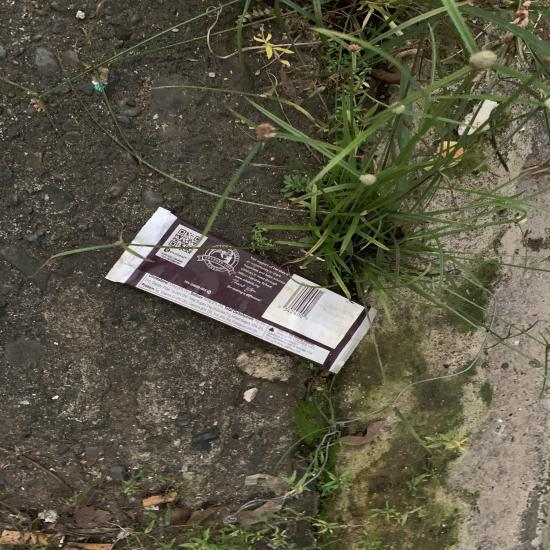Cigarette: (22, 414, 40, 425), (32, 105, 44, 119), (209, 275, 222, 287), (239, 307, 254, 317), (175, 283, 183, 298), (183, 281, 204, 286)
Normal paper: (148, 324, 187, 341)
Plastic straw: (183, 289, 294, 294)
